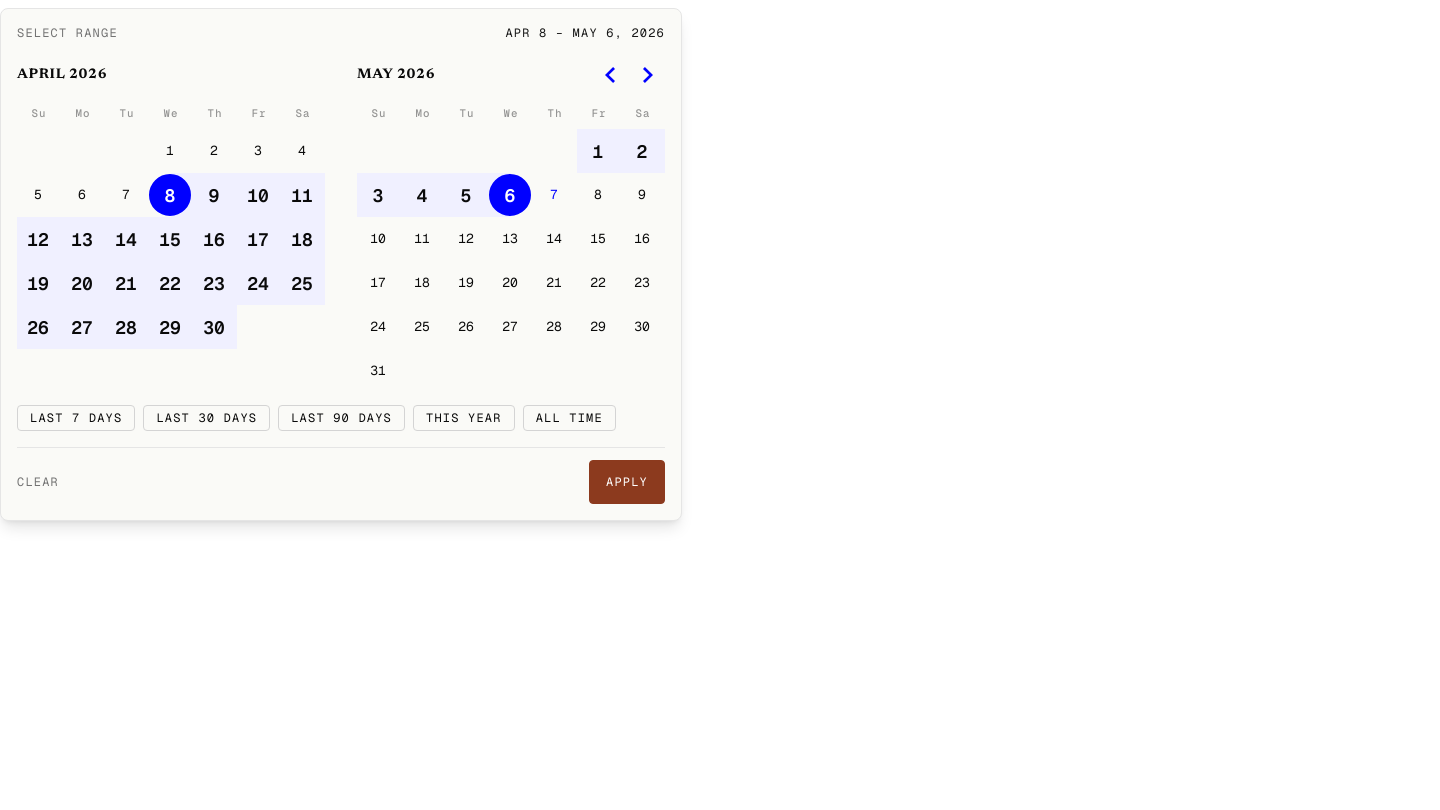
Test case: DateRangePopover › All time preset clears the local range
Click the button "All time".
click(569, 418)  # box x1=523 y1=405 x2=616 y2=431
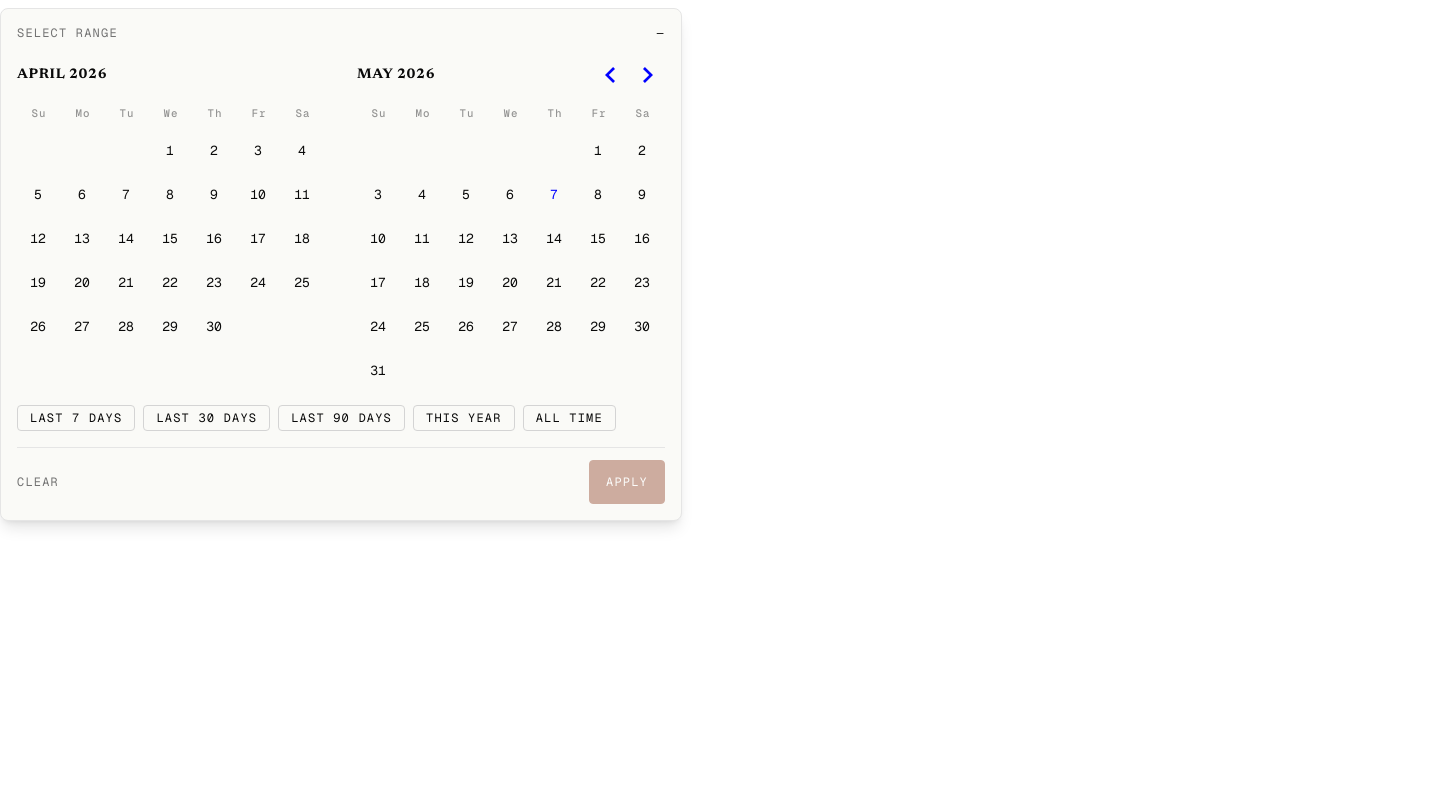
Now the text with test id "range-selected-label" reads "—", box x1=657 y1=25 x2=665 y2=41
Now the button "Apply" is disabled, box x1=589 y1=460 x2=665 y2=504
